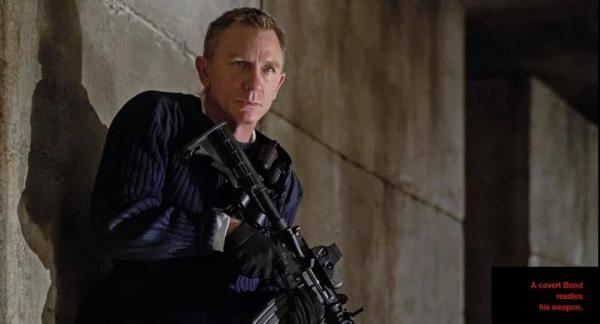rifle: (182, 114, 365, 324)
